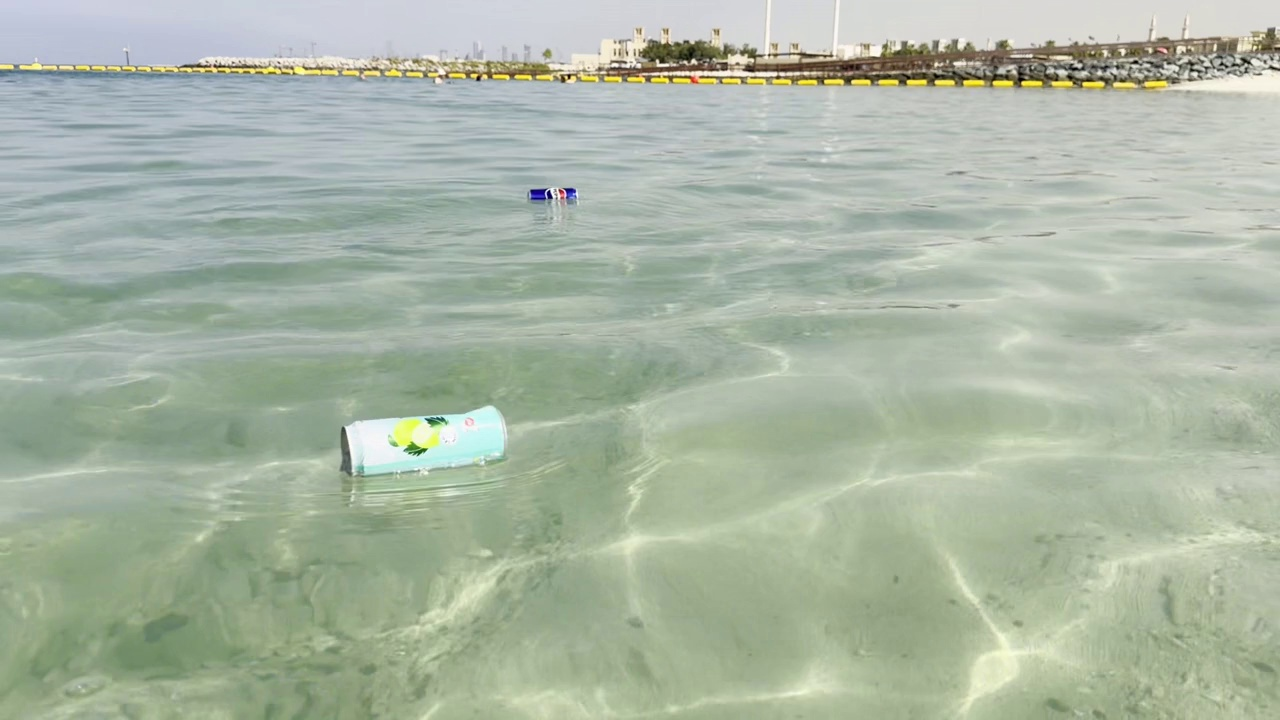debris: (330, 394, 518, 483), (523, 183, 585, 209)
